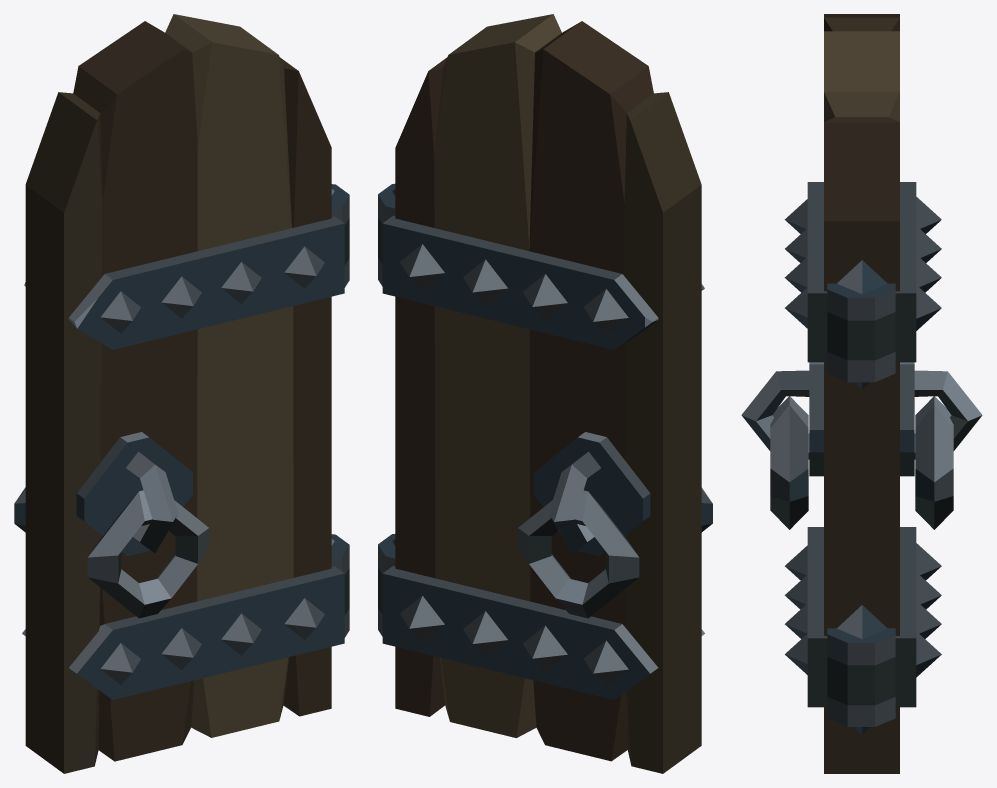
Rendered from door_wood_single.fbx.
3 views of the same model, side by side, from view 1: azimuth 30°, elevation 25°; view 2: azimuth 150°, elevation 25°; view 3: azimuth 270°, elevation 25° (orthographic).
Visible parts, largest first — view 1: door_wood_single; view 2: door_wood_single; view 3: door_wood_single.
Part boxes in pixels (bbox=[...]): door_wood_single: bbox=[14, 14, 349, 773]; door_wood_single: bbox=[378, 14, 712, 773]; door_wood_single: bbox=[741, 14, 982, 773].
Size of the model in its own units: 111 by 248 by 79.25.
